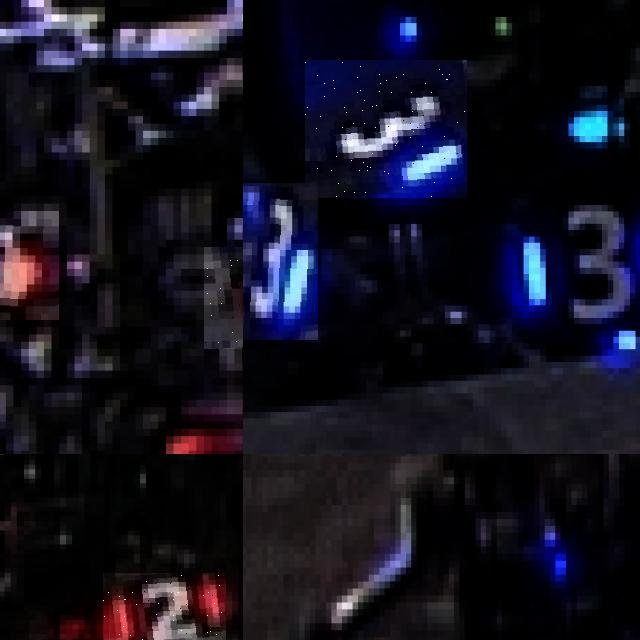B3: (305, 60, 467, 198), (503, 186, 640, 324), (243, 183, 318, 340)
R2: (103, 572, 226, 640), (0, 211, 59, 320), (204, 247, 243, 349)
